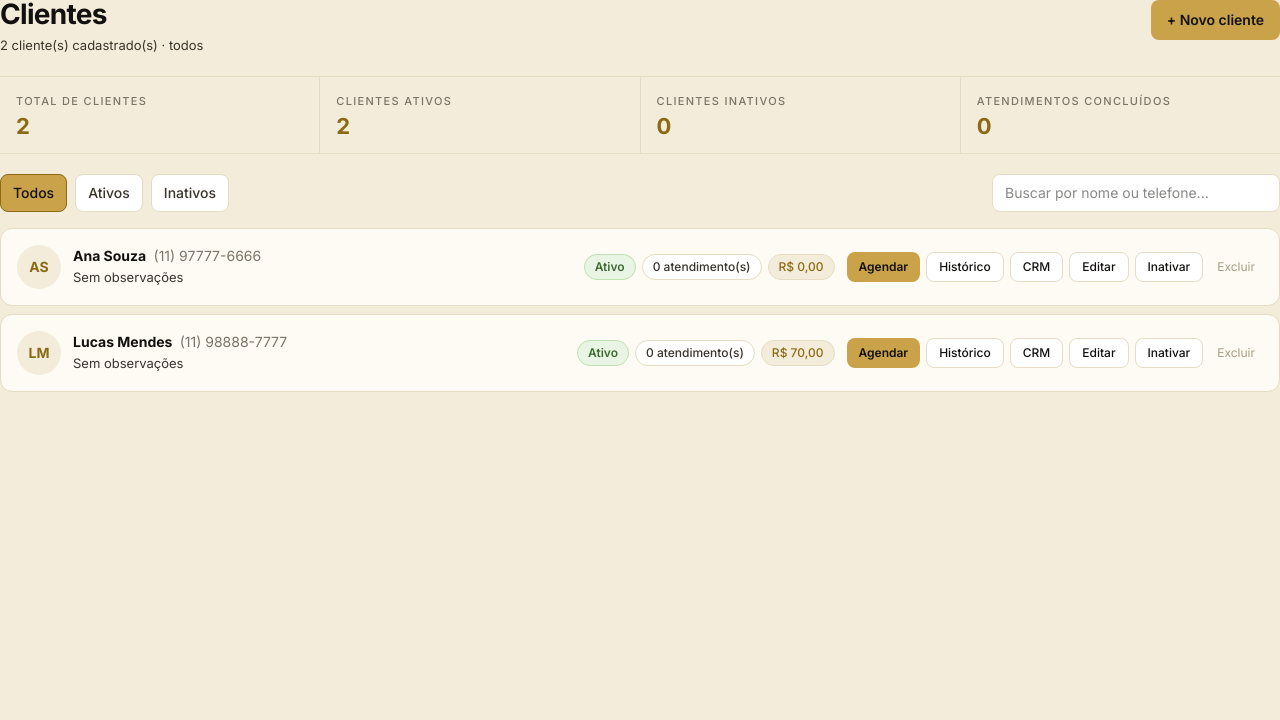
Test: Renomeação de cadastro propaga para a operação › editar o nome do cliente atualiza agenda e caixa
This screenshot has width=1280, height=720.
Click the button "Editar" in the row of "LM": (1099, 353) [1069,338,1129,368]
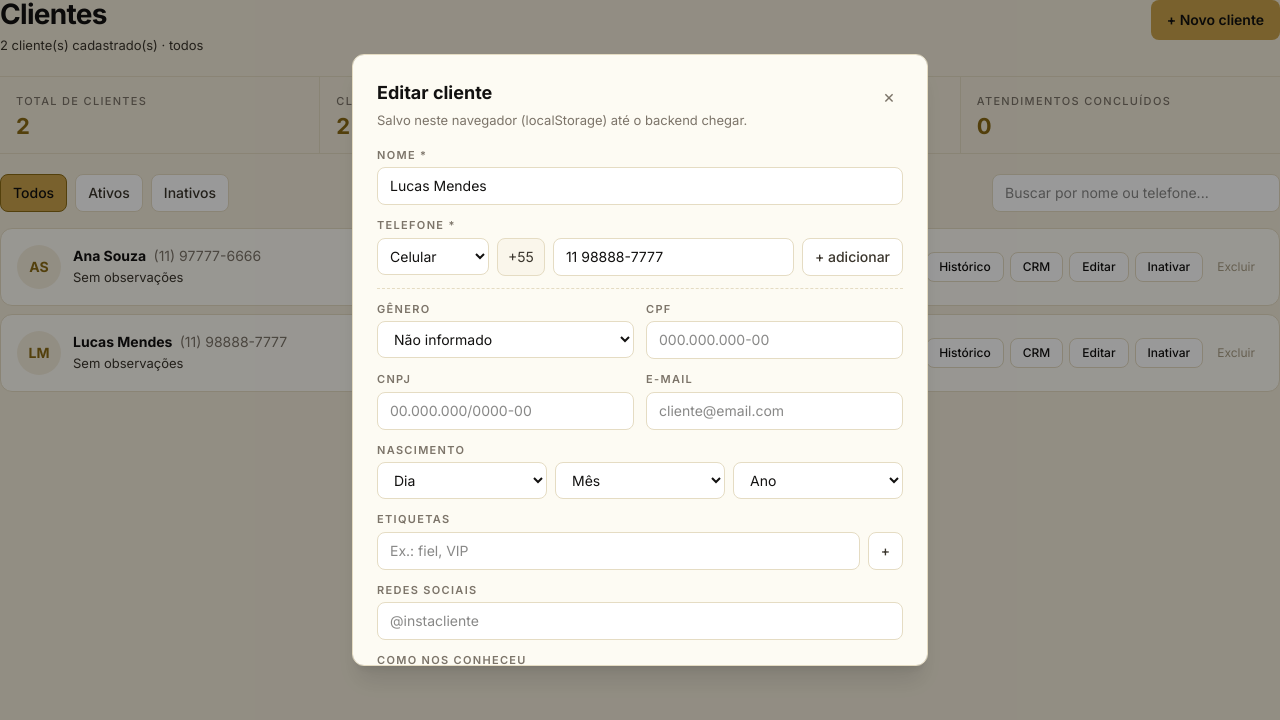
Replace the text in the field labelled "Nome *" with "Lucas M.": (640, 186) [377,167,903,205]
(page scrolled)
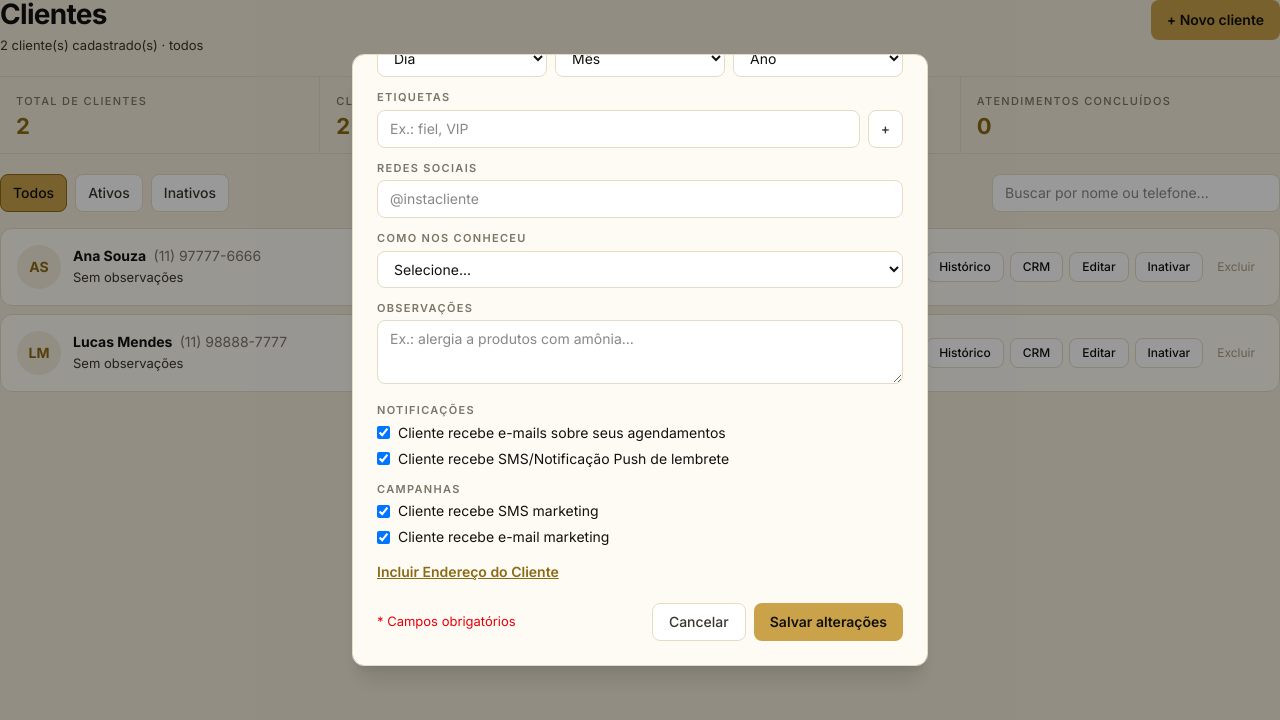
Click the button "Salvar alterações": (828, 622) [754,603,903,641]
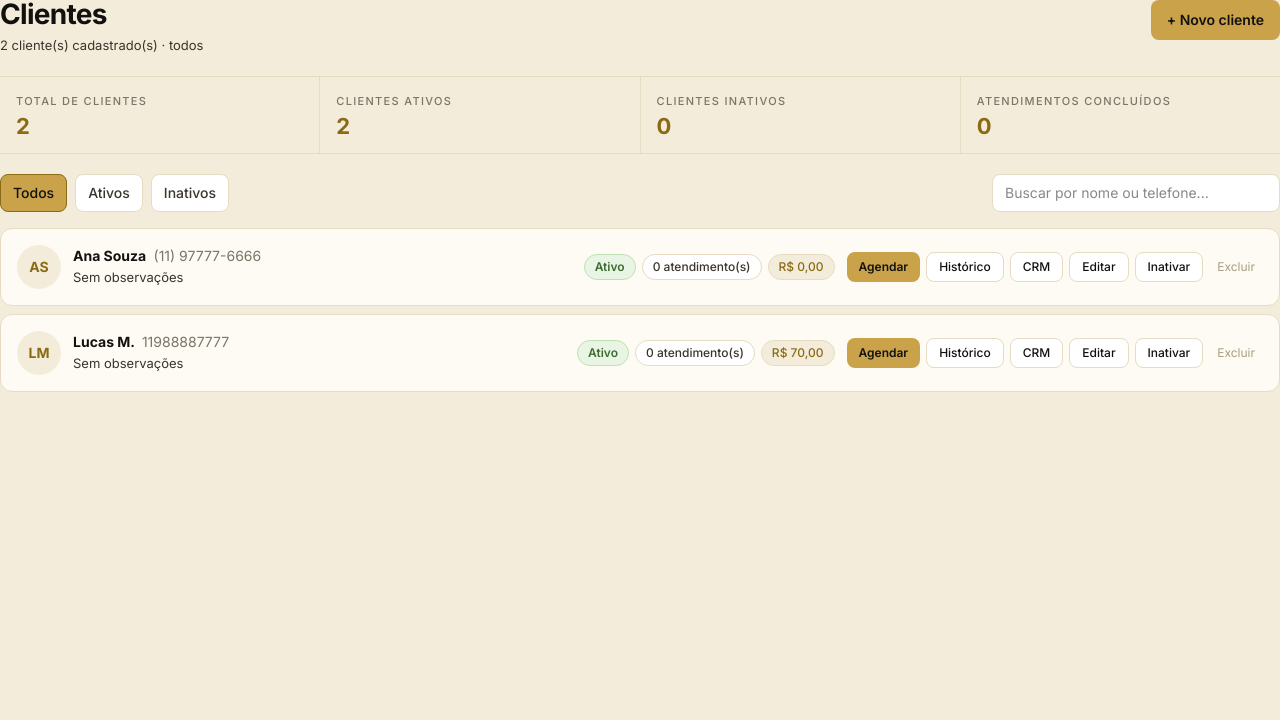
Expected: the button "Salvar alterações" is gone
